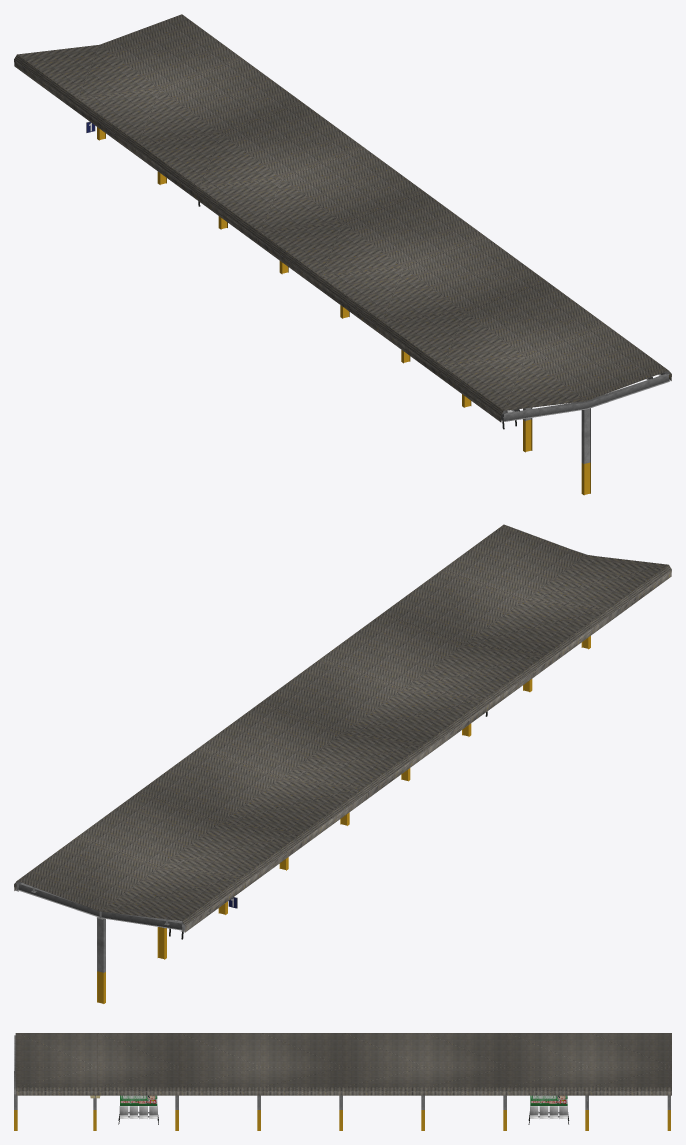
Rendered from AMB_TOBU_YANE_CENTER.glb.
3 views of the same model, one above another, from view 1: azimuth 30°, elevation 25°; view 2: azimuth 150°, elevation 25°; view 3: azimuth 270°, elevation 25° (orthographic). The views are drawn at different scales.
Visible parts, largest first — view 1: BASE, J08; view 2: BASE, J00; view 3: BASE, J01, J06, J08.
Boxes of the visible parts, <box> form: BASE: <box>14,14,671,422</box>; J08: <box>503,374,669,495</box>; BASE: <box>14,524,671,932</box>; J00: <box>18,883,182,1003</box>; BASE: <box>15,1033,671,1095</box>; J01: <box>528,1095,588,1130</box>; J06: <box>118,1095,178,1130</box>; J08: <box>14,1035,17,1130</box>.
Size of the model in its own units: 20.29 by 11.7 by 100.
55 materials, 47 textured.
